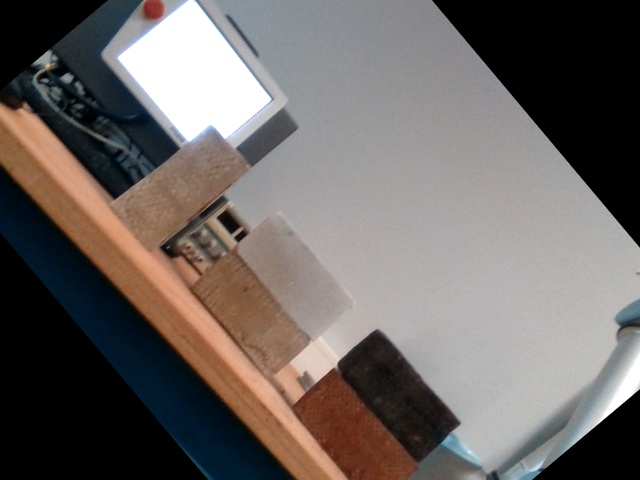brick: (109, 121, 250, 253), (335, 330, 458, 460), (234, 212, 352, 338), (289, 370, 417, 479), (192, 252, 305, 373)
